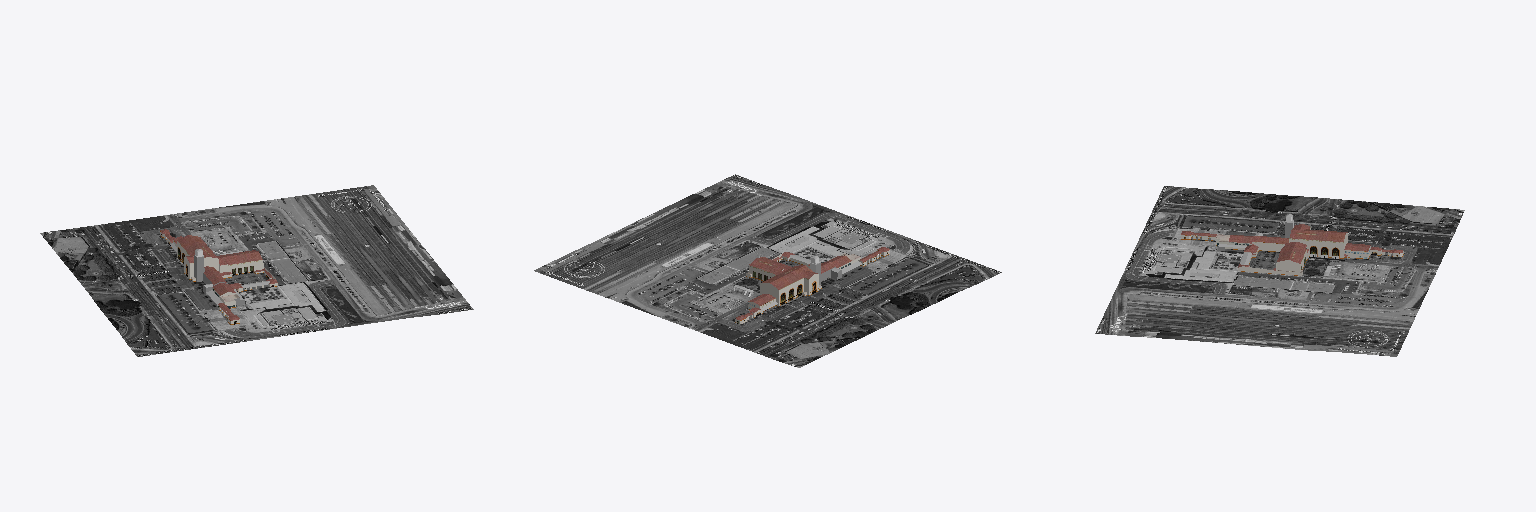
3 views of the same model, side by side, from view 1: azimuth 30°, elevation 25°; view 2: azimuth 150°, elevation 25°; view 3: azimuth 270°, elevation 25° (orthographic).
Parts seen in each view (by area): view 1: Mesh1 Google_Earth_Terrain Model, Mesh3 Group1 Model; view 2: Mesh1 Google_Earth_Terrain Model, Mesh3 Group1 Model; view 3: Mesh1 Google_Earth_Terrain Model, Mesh3 Group1 Model.
Boxes of the visible parts, x1,y1,x2,y2 form: Mesh1 Google_Earth_Terrain Model: [40, 185, 473, 356]; Mesh3 Group1 Model: [167, 235, 277, 315]; Mesh1 Google_Earth_Terrain Model: [534, 174, 1001, 367]; Mesh3 Group1 Model: [746, 252, 875, 317]; Mesh1 Google_Earth_Terrain Model: [1095, 186, 1464, 356]; Mesh3 Group1 Model: [1202, 214, 1381, 275].
Bounding box in the file's own units: 18977 × 1699 × 17233.
Materials: 84 (82 with a texture image).